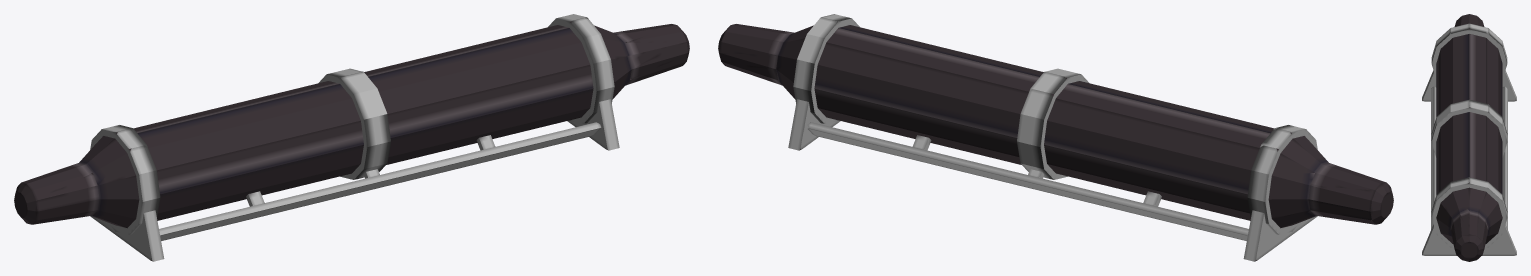
File: the_prototype.obj
3 renders of one model, left to right at view 1: azimuth 30°, elevation 25°; view 2: azimuth 150°, elevation 25°; view 3: azimuth 270°, elevation 25°, orthographic. The views are drawn at different scales.
Visible parts, largest first — view 1: Cylinder.001; view 2: Cylinder.001; view 3: Cylinder.001.
Part boxes in pixels (left/top/right/bottom): Cylinder.001: left=14, top=14, right=689, bottom=261; Cylinder.001: left=718, top=14, right=1393, bottom=261; Cylinder.001: left=1422, top=14, right=1516, bottom=261.
Size of the model in its own units: 7 by 1.06 by 1.25.
